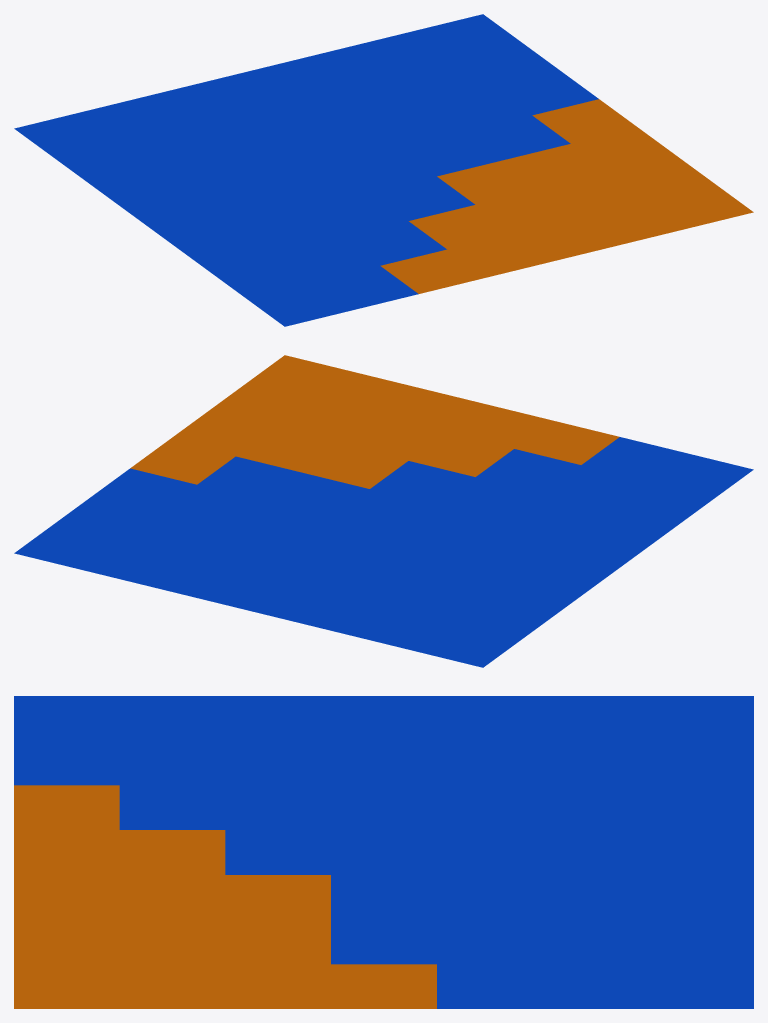
File: pintest2.obj
3 views of the same model, one above another, from view 1: azimuth 30°, elevation 25°; view 2: azimuth 150°, elevation 25°; view 3: azimuth 270°, elevation 25° (orthographic). The views are drawn at different scales.
Visible parts, largest first — view 1: free, Plane_blue, pin, Plane_yellow; view 2: free, Plane_blue, pin, Plane_yellow; view 3: free, Plane_blue, pin, Plane_yellow.
Boxes of the visible parts, x1,y1,x2,y2 form: free: (120,59,647,281); Plane_blue: (14,14,521,326); pin: (455,42,753,261); Plane_yellow: (380,233,552,293); free: (120,400,647,622); Plane_blue: (14,437,753,667); pin: (53,355,485,541); Plane_yellow: (447,404,619,464); free: (119,740,648,964); Plane_blue: (14,696,753,1008); pin: (14,875,648,1008); Plane_yellow: (14,785,119,874).
Bounding box in the file's own units: 2 × 0 × 2.
